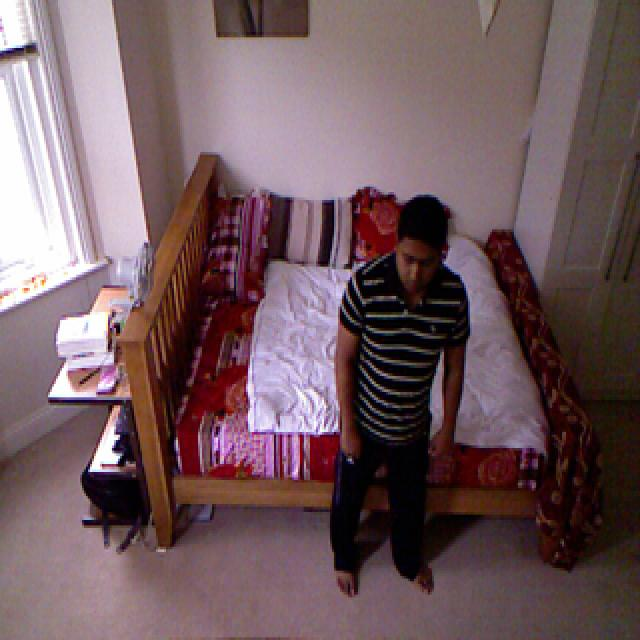standing: (331, 195, 474, 601)
